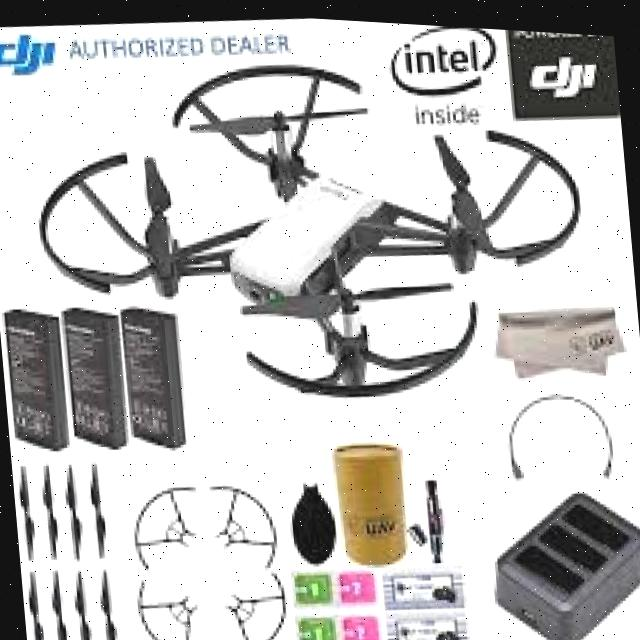drone: (17, 21, 600, 429)
